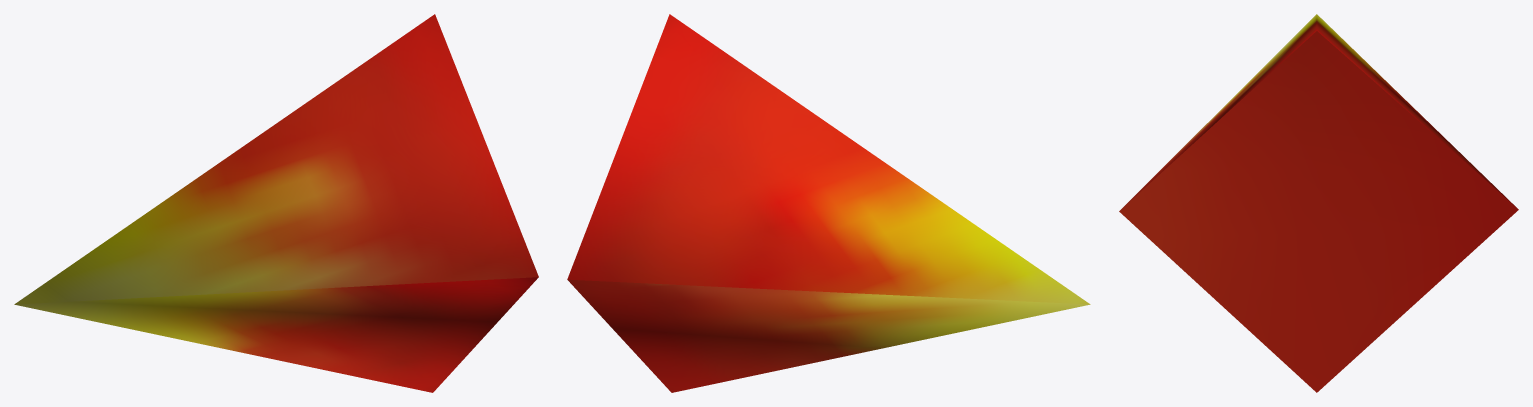
File: Brute_Spike.fbx
The picture shows the model from 3 angles, left to right: view 1: azimuth 30°, elevation 25°; view 2: azimuth 150°, elevation 25°; view 3: azimuth 270°, elevation 25°; orthographic projection. The views are drawn at different scales.
Visible parts, largest first — view 1: polySurface16; view 2: polySurface16; view 3: polySurface16.
Boxes of the visible parts, x1=… form: polySurface16: x1=14, y1=14, x2=538, y2=392; polySurface16: x1=567, y1=14, x2=1090, y2=392; polySurface16: x1=1119, y1=14, x2=1518, y2=392.
Bounding box in the file's own units: 3.33 × 2.85 × 2.85.
